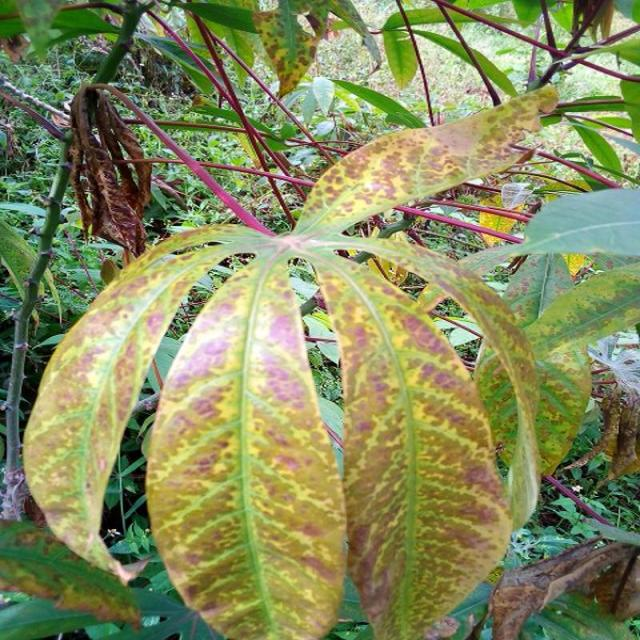cassava leaf: (21, 79, 562, 583), (146, 247, 348, 638), (314, 252, 514, 638)
